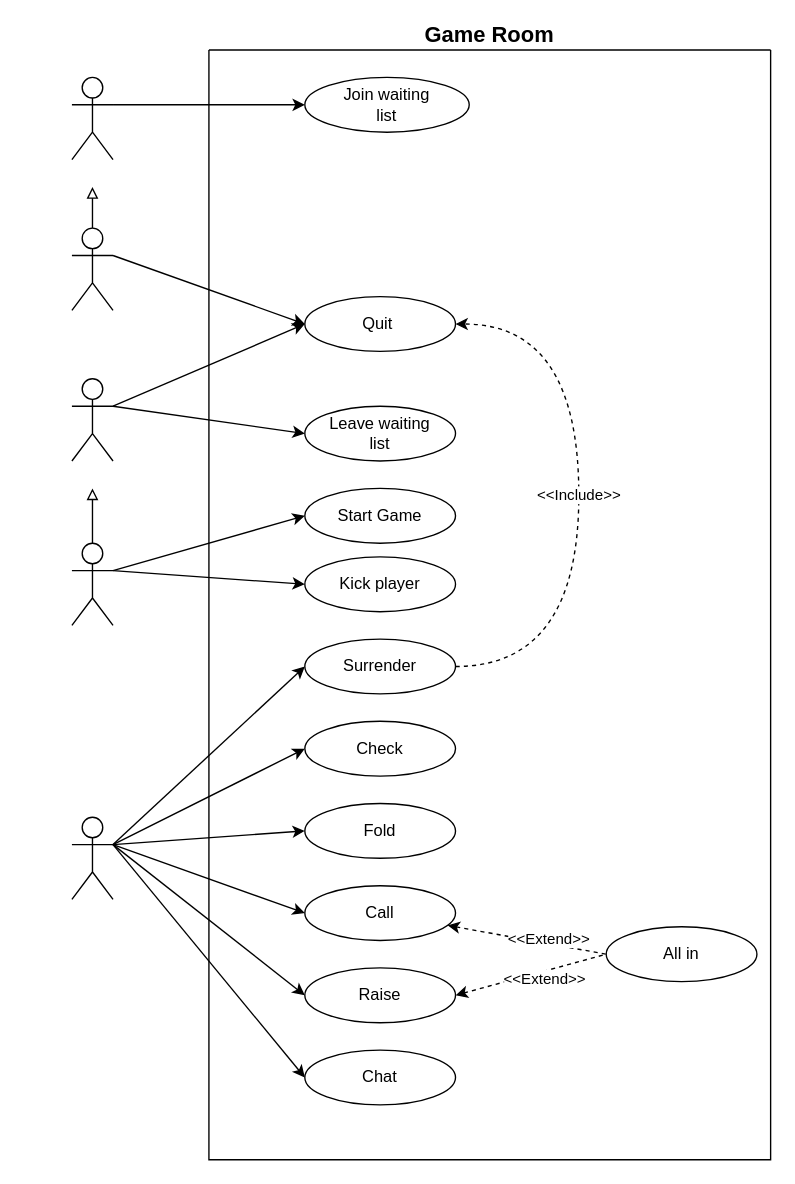
Some shapes in this 795 by 1184 pixel diagram are drawn without their labels. The shapes that lost their labels are listed below. From the top down, each one's box as (x1, y1, x2, y2) in pixels, then its label:
(71, 76, 113, 160): Observer(Waiting)
(71, 227, 113, 310): Observer(In game)
(71, 377, 113, 461): Player(Waiting)
(71, 542, 113, 625): Host
(71, 816, 113, 899): Player(in game)
